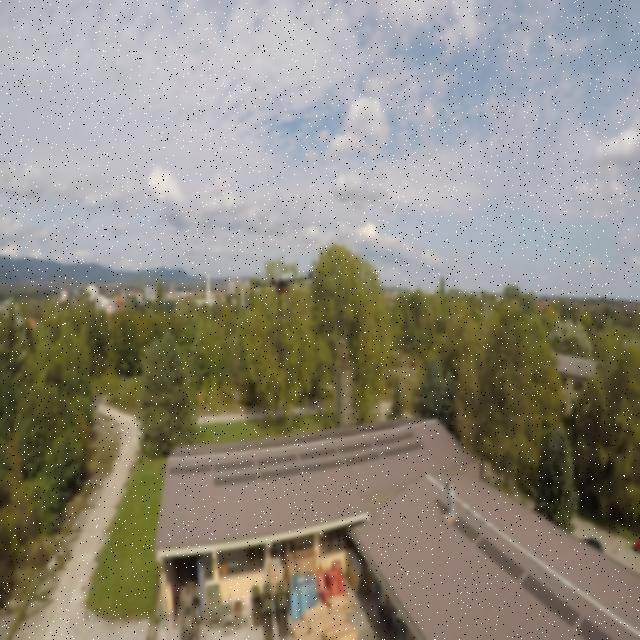UAV: (250, 265, 320, 321)
